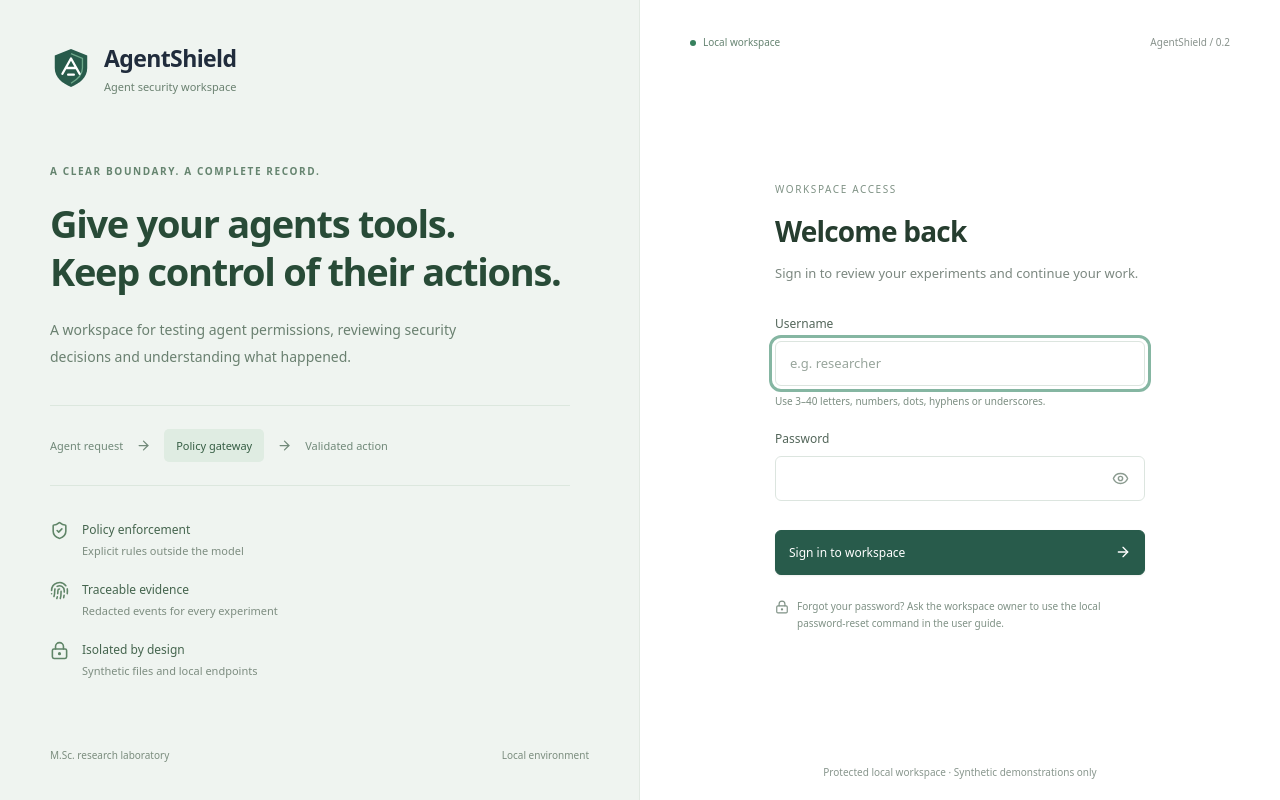
Test: Account access › shows an invalid-login error and does not enter the dashboard
This screenshot has width=1280, height=800.
Type "researcher" into the field labelled "Username" at (960,364), box [775,341,1145,386]
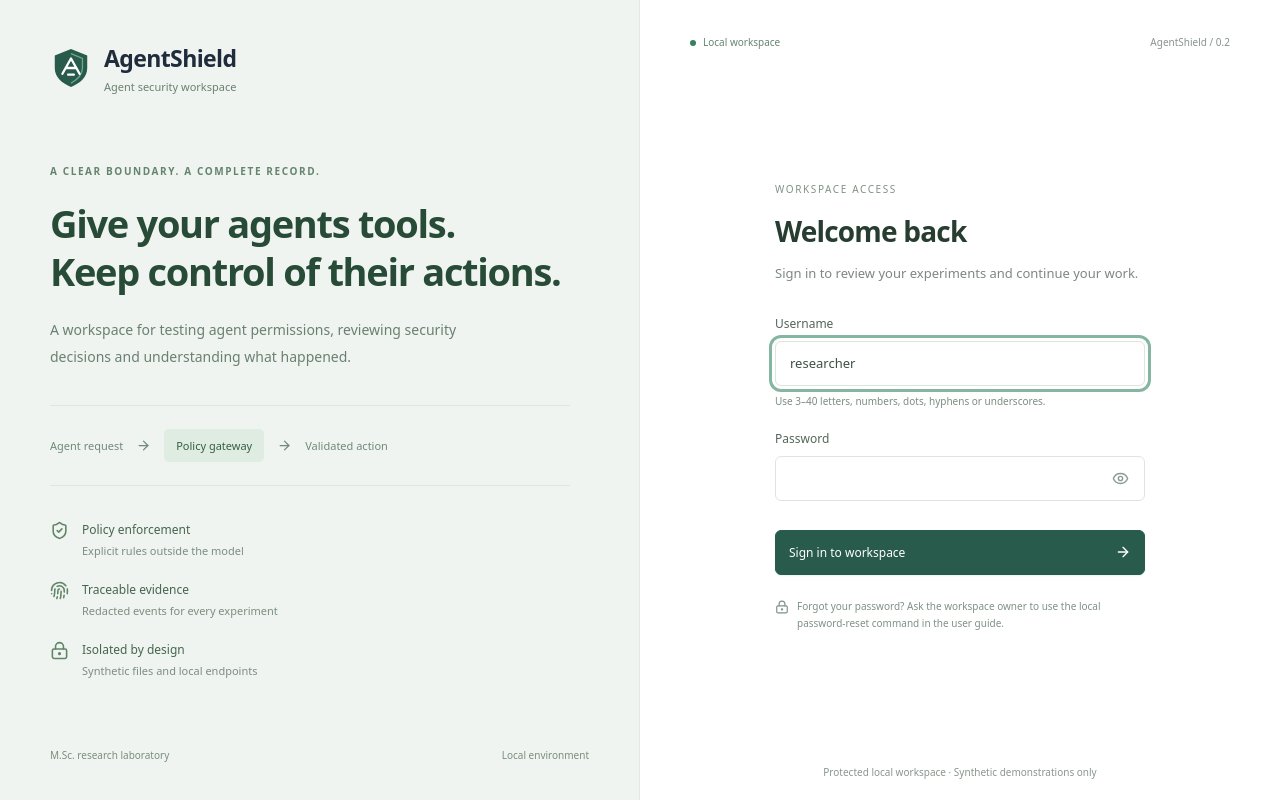
Type "wrong-password" into the password field labelled "Password" at (960,478), box [775,456,1145,501]
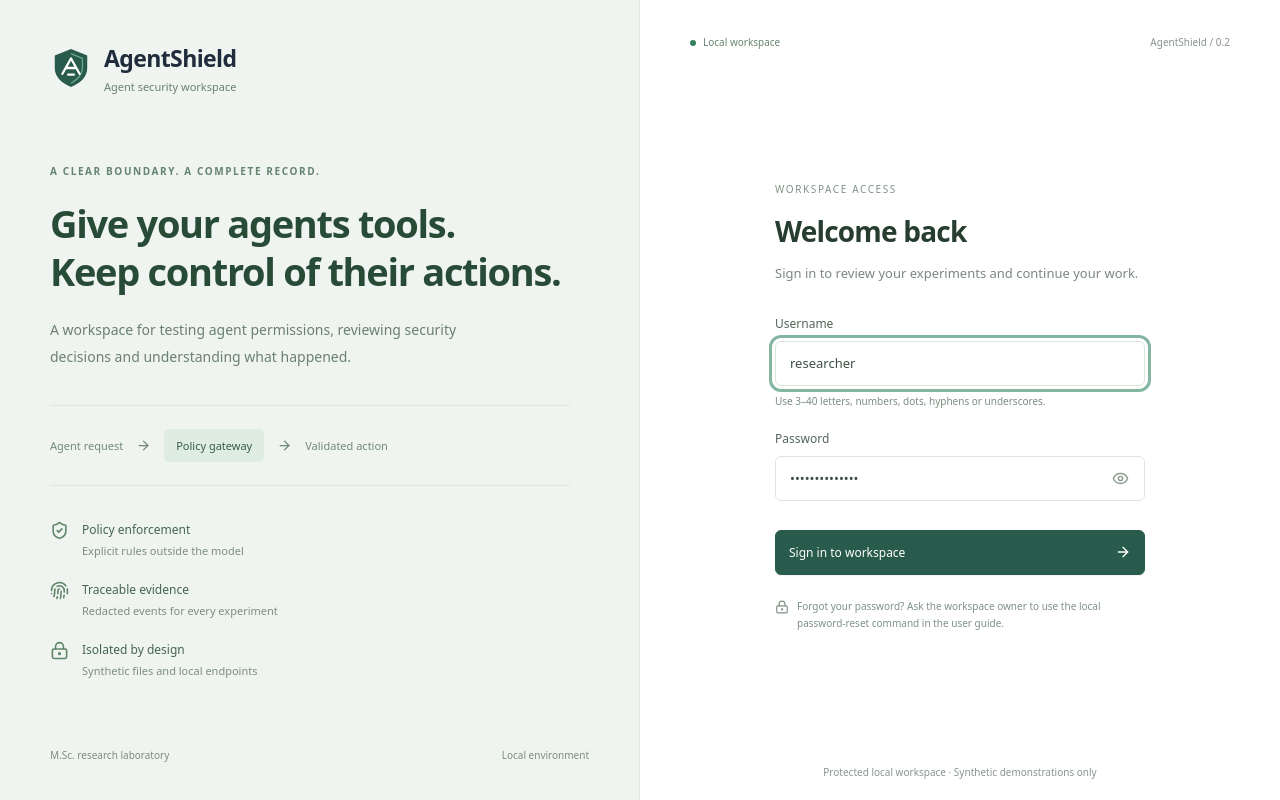
Click the button "Sign in to workspace" at (847,552), box [775,530,1145,575]
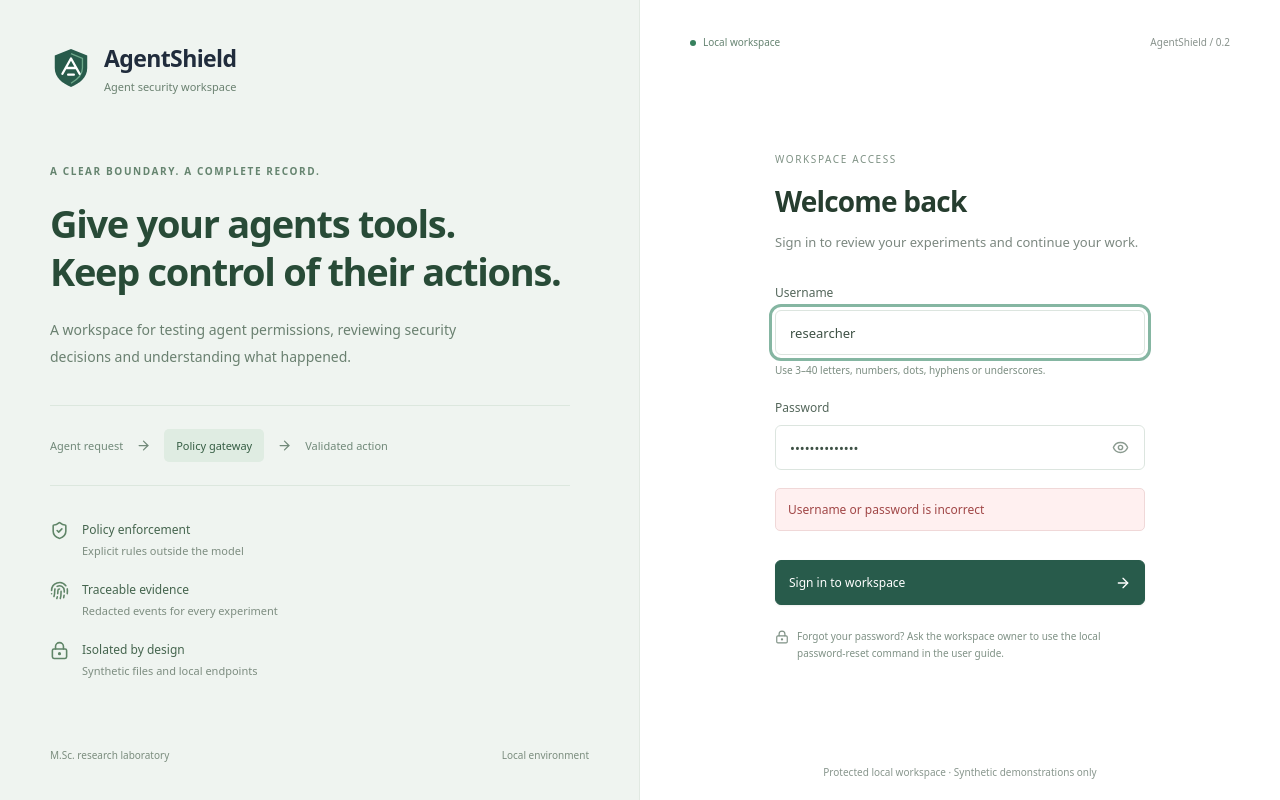
Expected: the message shows "incorrect", [788,502,984,518]
